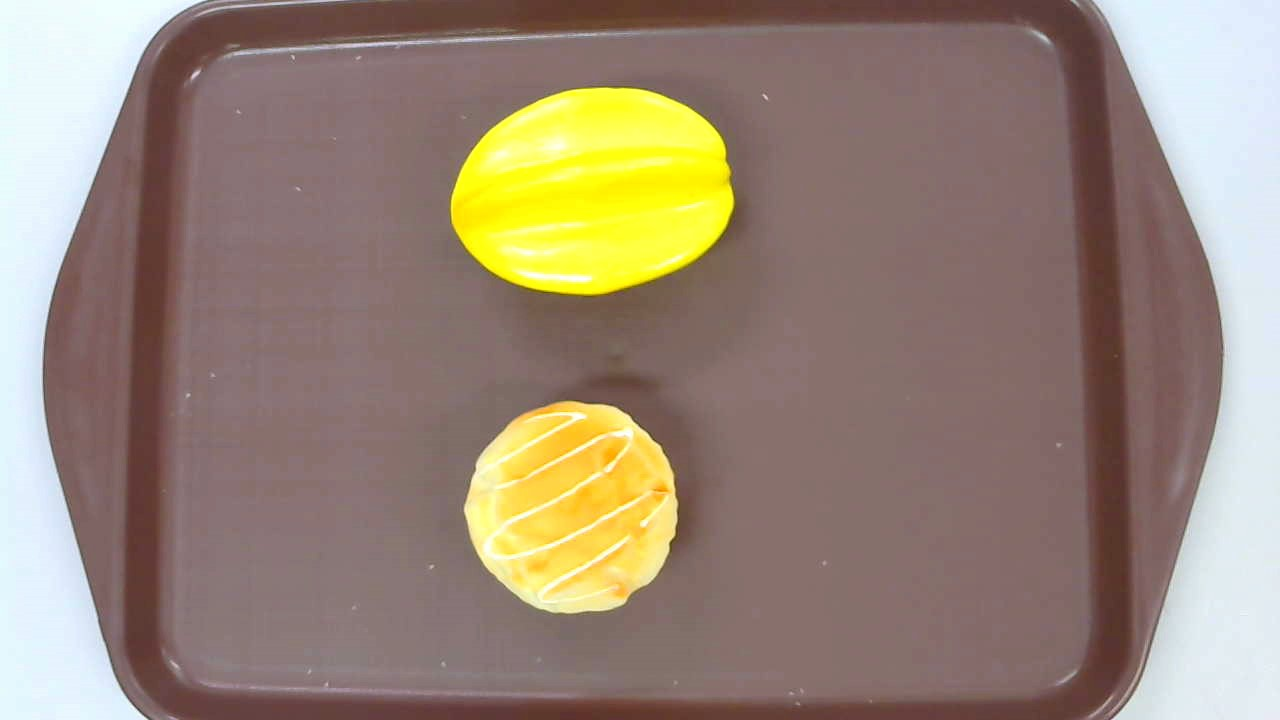cupcake: (461, 401, 679, 616)
star fruit: (450, 87, 736, 297)
